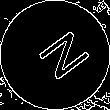N_SW: (23, 24, 87, 86)
